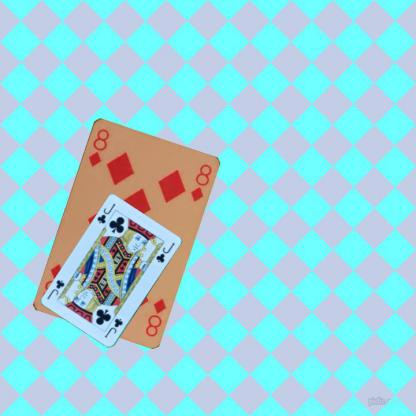8d: (143, 295, 167, 338), (86, 126, 110, 168)
Jc: (94, 201, 117, 225), (102, 316, 124, 339)
